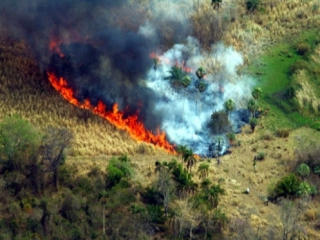fire: (46, 73, 176, 153)
smoke: (150, 17, 257, 154), (51, 9, 149, 102)
